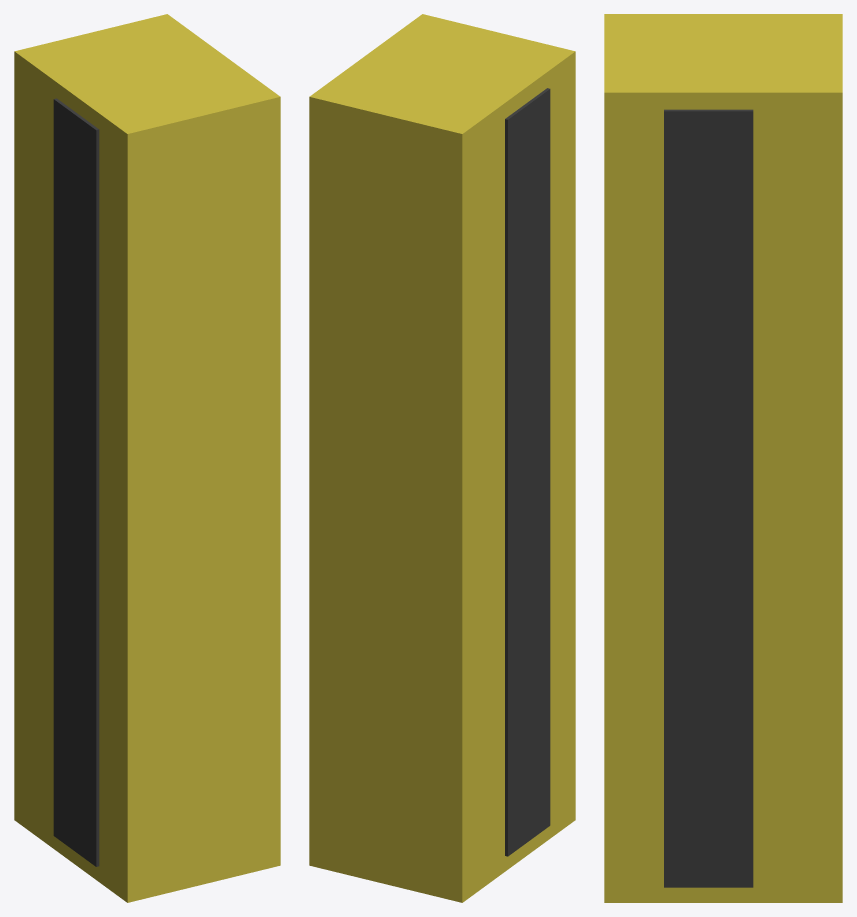
The model's file is bus.glb.
The picture shows the model from 3 angles, left to right: view 1: azimuth 30°, elevation 25°; view 2: azimuth 150°, elevation 25°; view 3: azimuth 270°, elevation 25°; orthographic projection. The views are drawn at different scales.
Visible parts, largest first — view 1: geometry_0; view 2: geometry_0; view 3: geometry_0.
Boxes of the visible parts, x1,y1,x2,y2 form: geometry_0: (14, 14, 280, 902); geometry_0: (309, 14, 575, 902); geometry_0: (604, 14, 842, 902).
Size of the model in its own units: 2.6 by 12 by 3.2.
